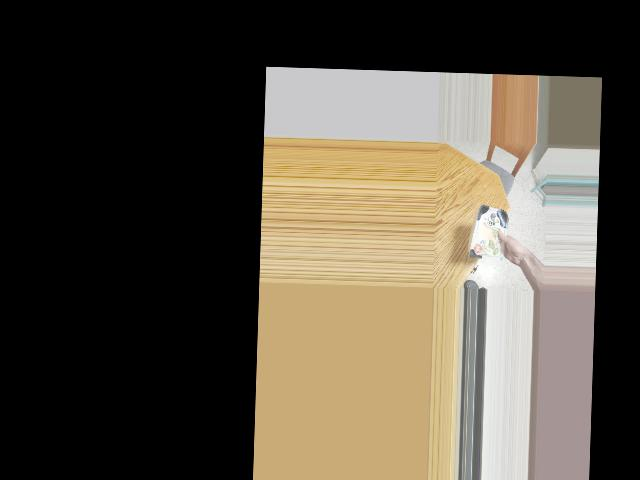cheese: (465, 205, 518, 264)
